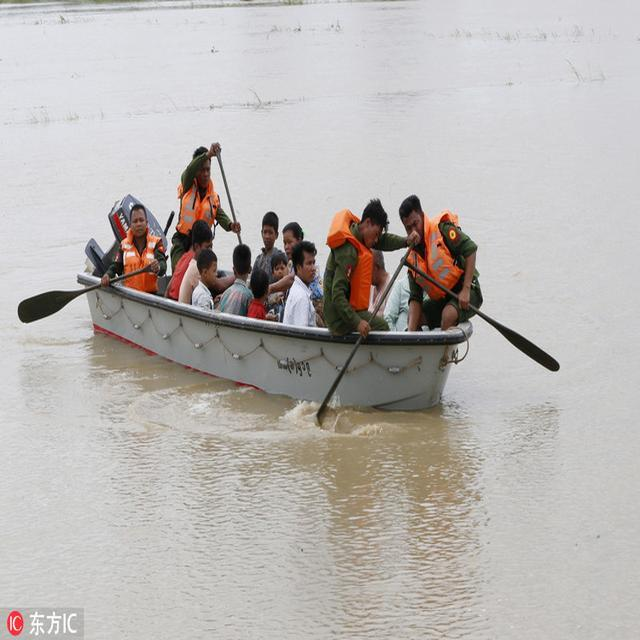Person-RiskLevel3: (80, 133, 481, 352)
